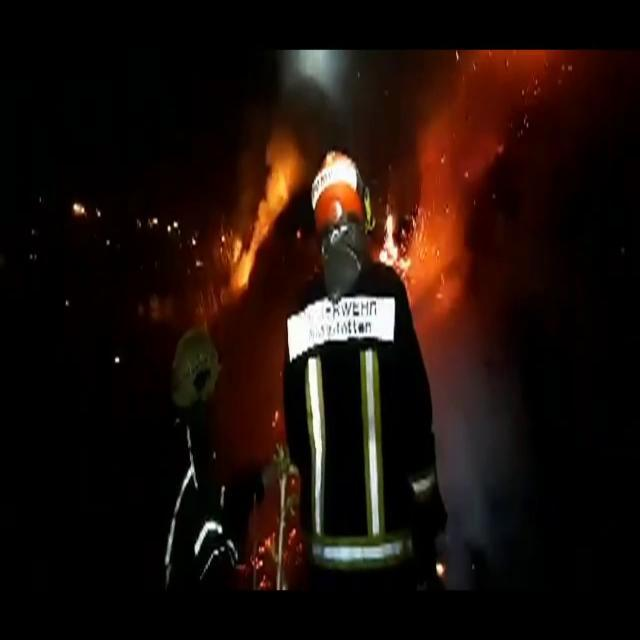Fire: (220, 126, 302, 288)
Smoke: (397, 53, 519, 280), (431, 297, 536, 560)
